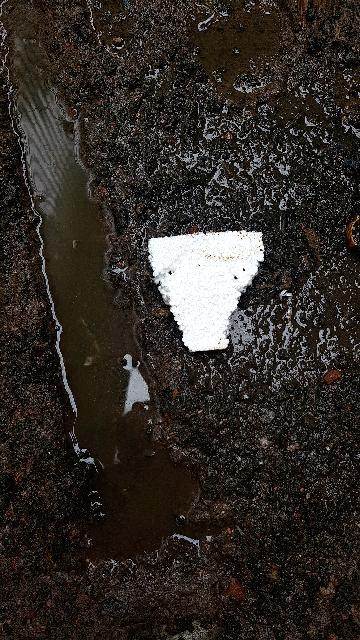cocksheet: (125, 206, 293, 376)
